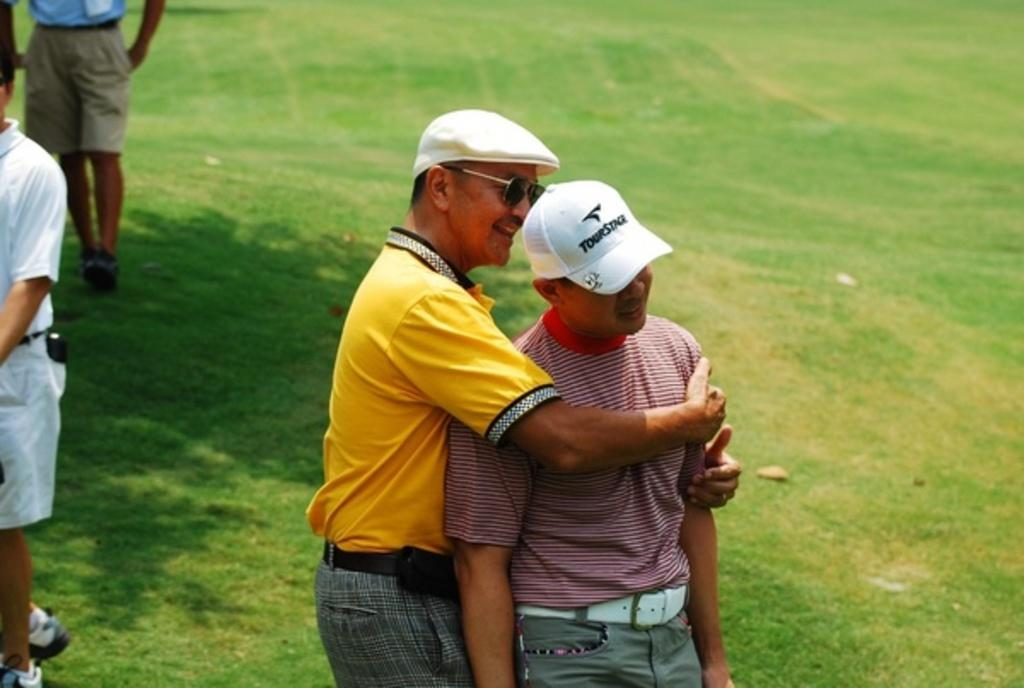Hat: (522, 177, 676, 298)
